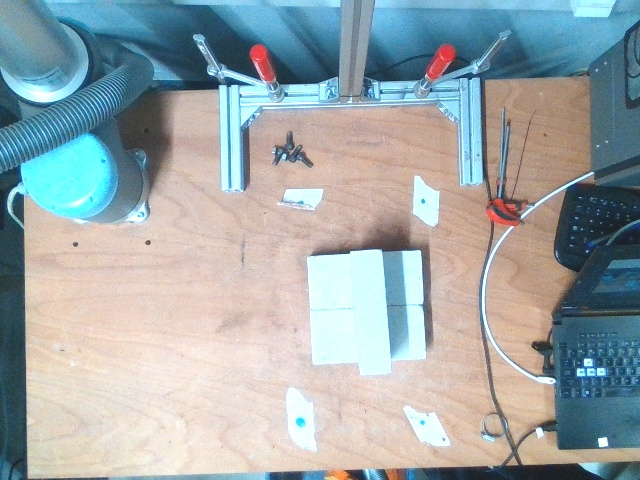brick-side: (350, 250, 393, 373)
